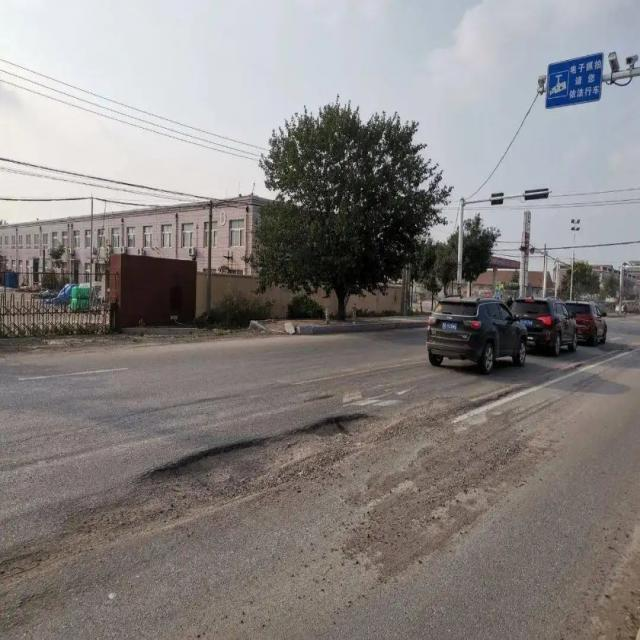Pothole: (0, 434, 290, 592), (298, 412, 394, 450)
